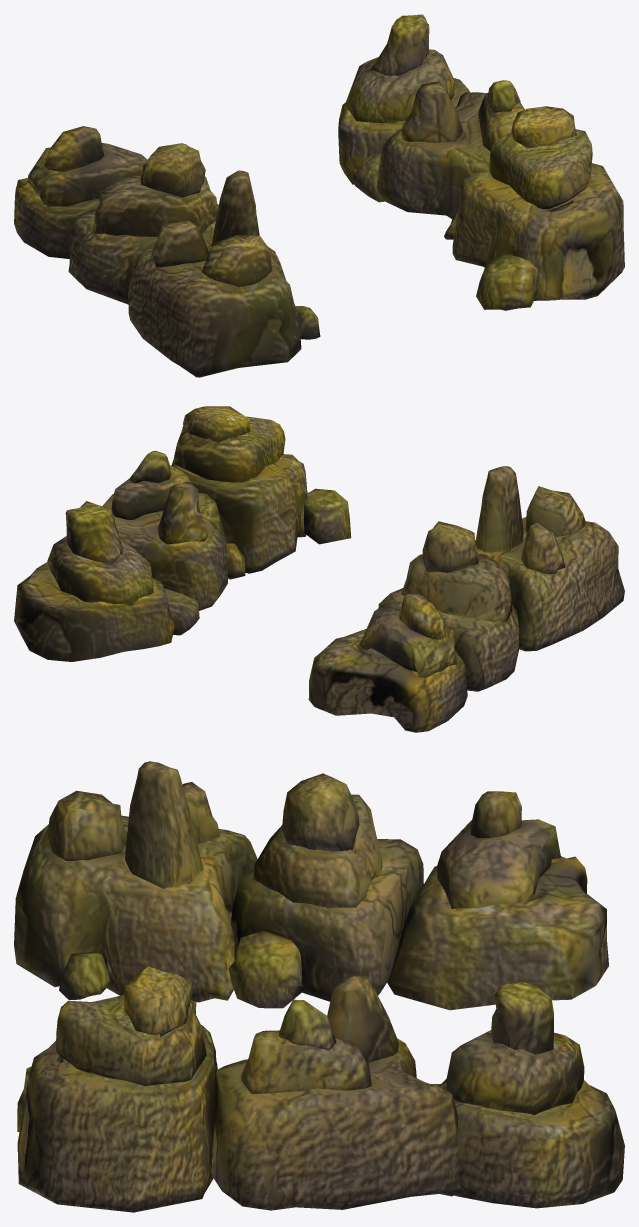
Rendered from Lava_Rock_2.fbx.
The picture shows the model from 3 angles, top to bottom: view 1: azimuth 30°, elevation 25°; view 2: azimuth 150°, elevation 25°; view 3: azimuth 270°, elevation 25°; orthographic projection. The views are drawn at different scales.
Visible parts, largest first — view 1: Lava_Rock_2; view 2: Lava_Rock_2; view 3: Lava_Rock_2.
Boxes of the visible parts, box(x1,y1,x2,y2) form: Lava_Rock_2: box(14, 14, 624, 377); Lava_Rock_2: box(14, 406, 624, 732); Lava_Rock_2: box(14, 761, 624, 1212).
Bounding box in the file's own units: 15.23 × 5.04 × 12.74.
